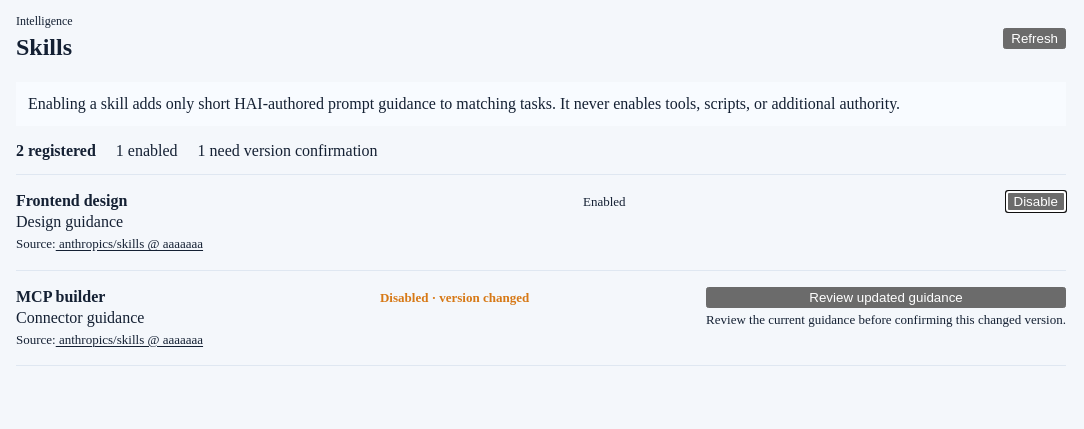
SkillsComponent › announces the confirmed selection and restores keyboard focus to the next action
Click the button with aria-label "Disable Frontend design" at (1036, 202), box [1006, 191, 1066, 212]
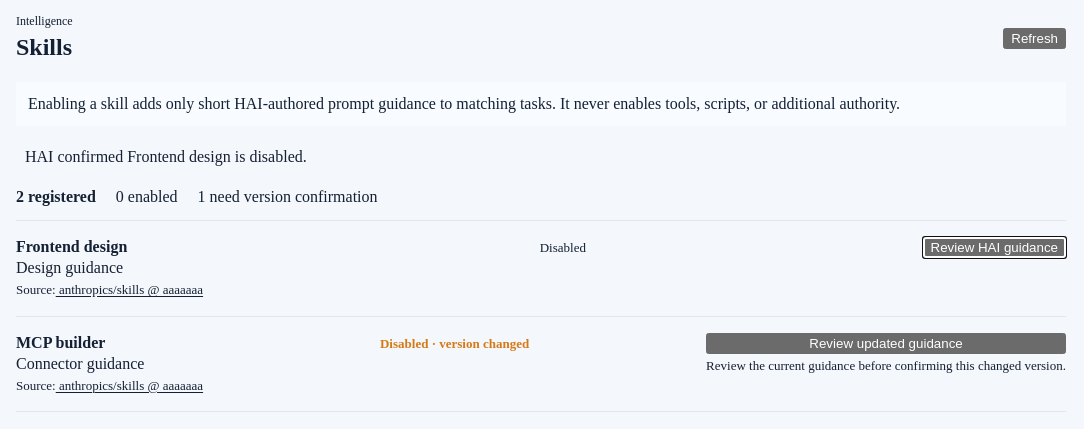
Check: the message with class "skills-page__notice" shows "HAI confirmed Frontend design is disabled", box [25, 148, 307, 165]
